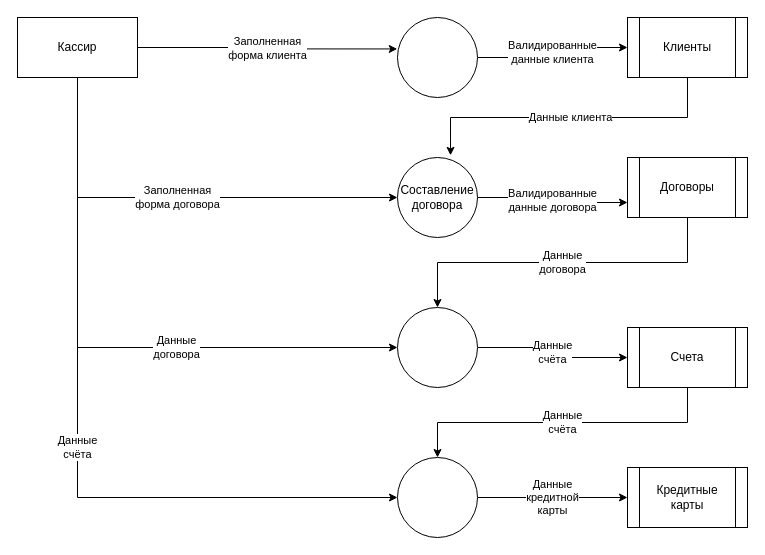
This 765x555 diagram has some shape labels left out. The shapes that lost their labels are listed below. From the top down, each one's box as (x1, y1, x2, y2) in pixels, then its label:
(396, 16, 478, 98): Внесение клиента в базу данных
(396, 306, 478, 388): Открытие счёта
(396, 456, 478, 538): Создание кредитной карточки
